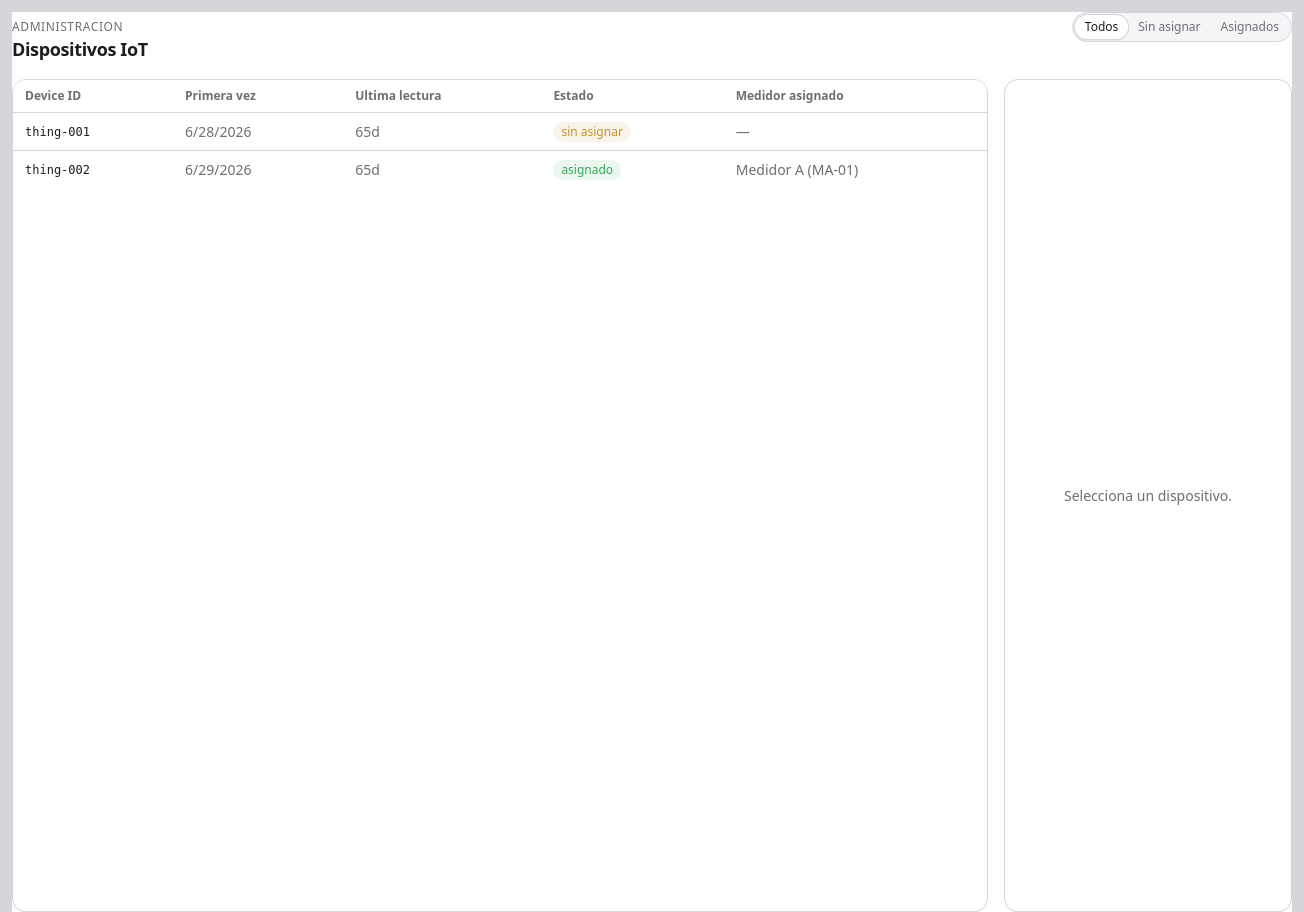
IotDevicesPage › clicking unassigned device shows assign button in detail panel
Click the text "thing-001" at (93, 132), box [13,112,173,150]
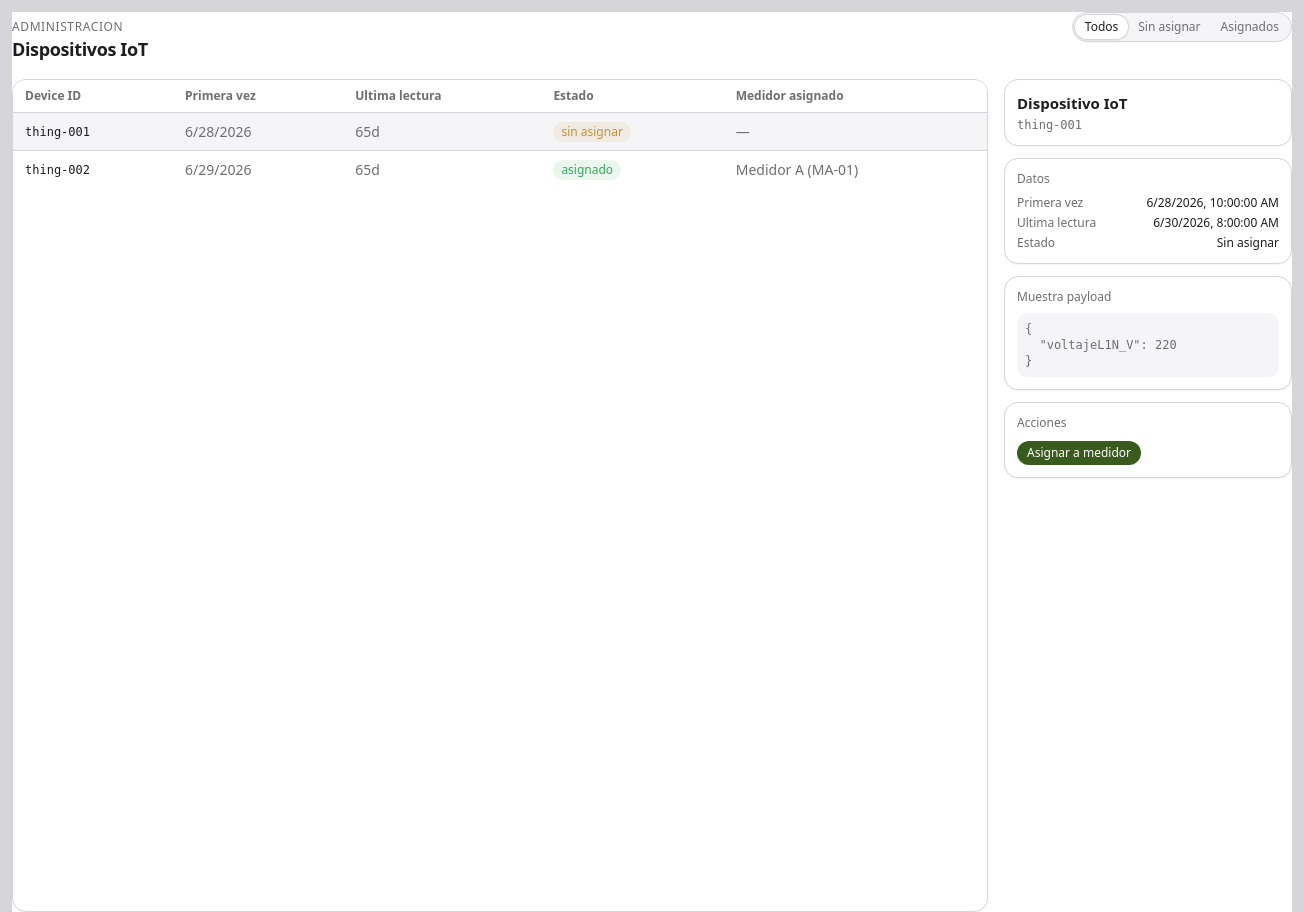
Expected: the button "Asignar a medidor" is shown, [1017,440,1141,464]
